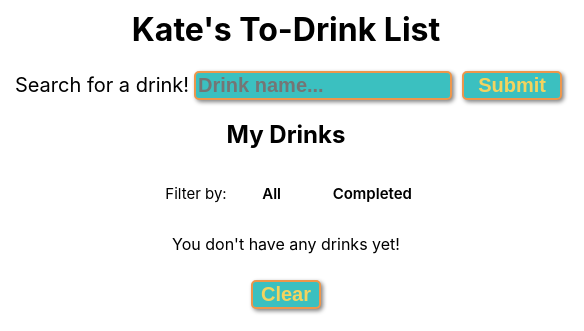
Search drink test › Shows list of drinks when clicked
Click the field with placeholder "Drink name...": click(323, 85) [194,71,452,100]
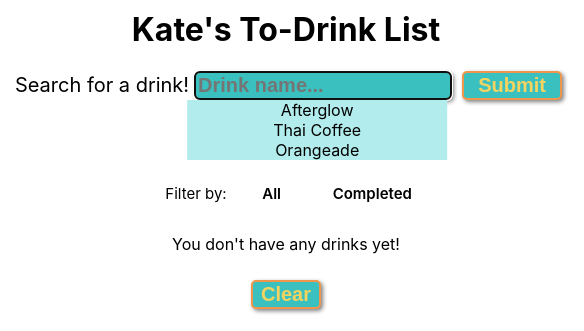
Now the number of list items is 3, box [281,100,354,120]; [273,120,361,140]; [275,140,359,160]
